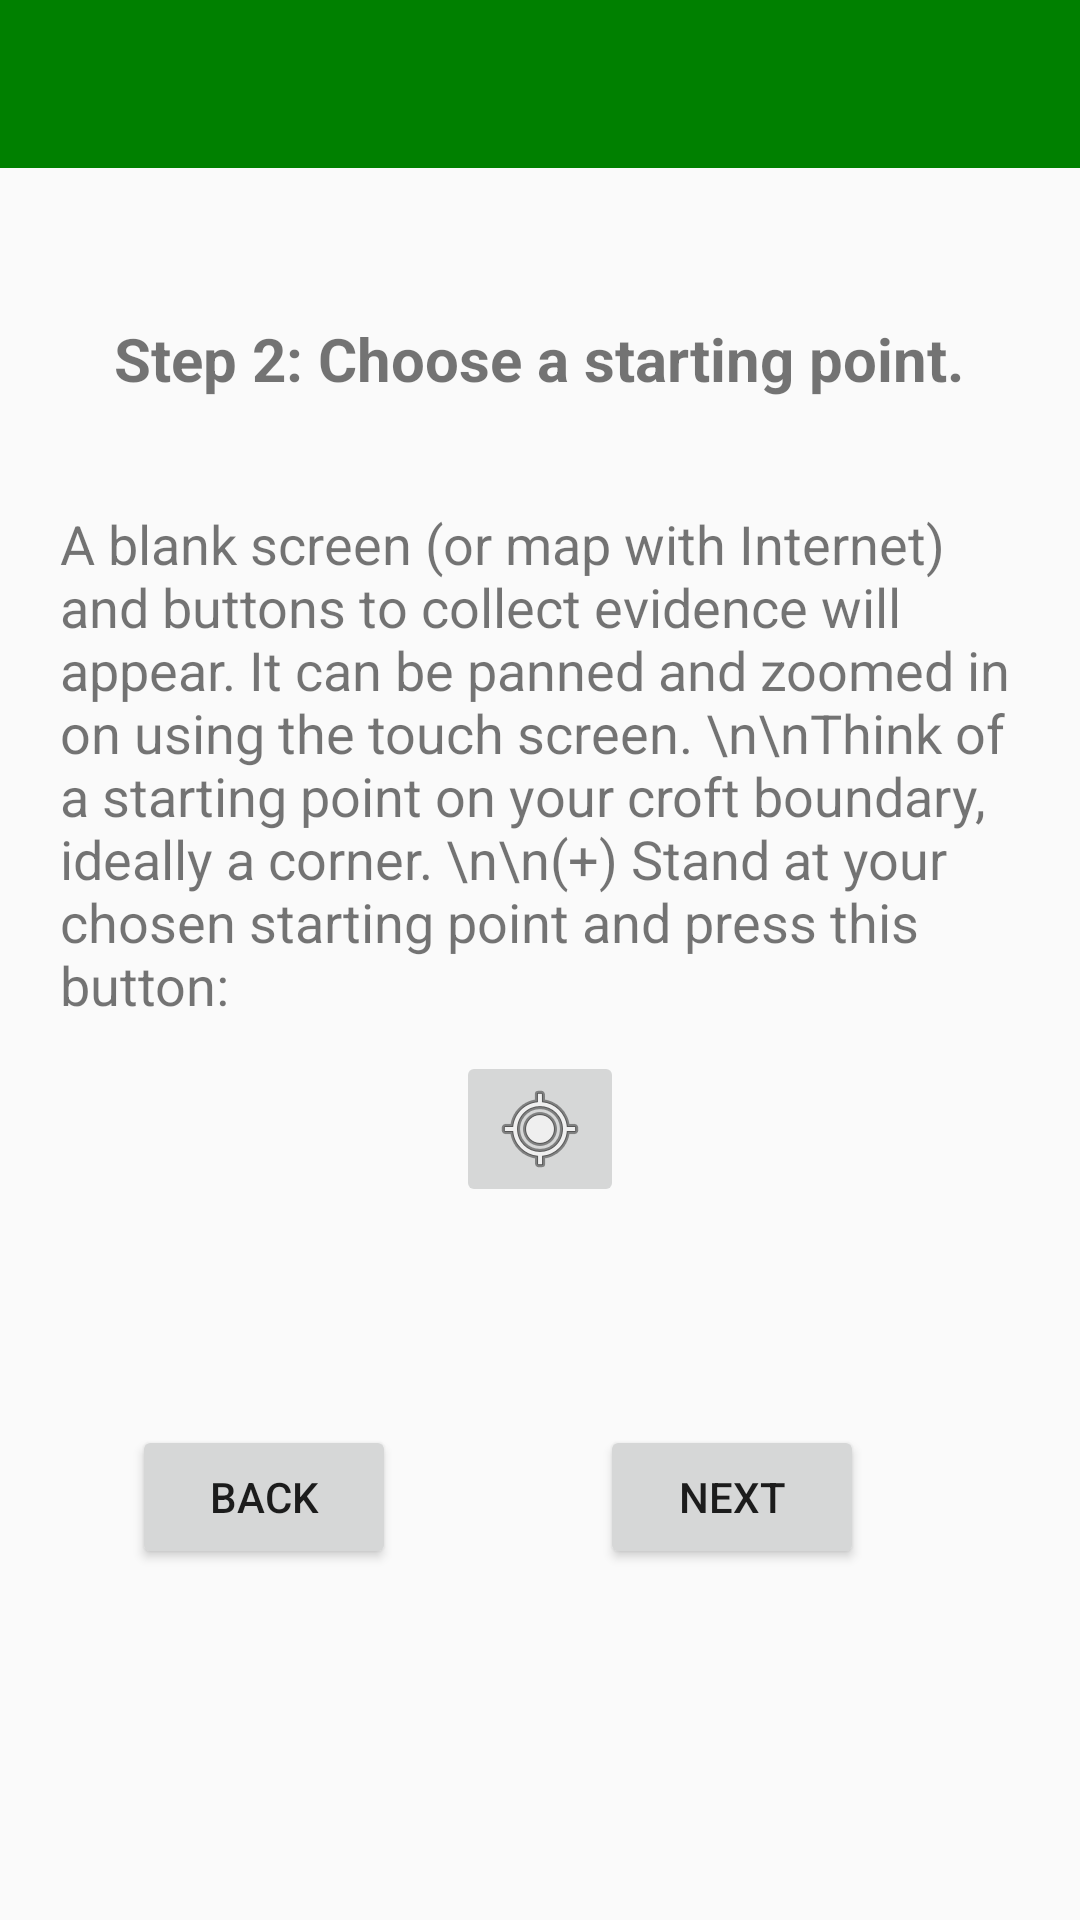

Screen size 1080 x 1920. Icon name, then its box in pixels as bbox(x1, y1, x2, y2):
mylocation: bbox(468, 1069, 612, 1189)
